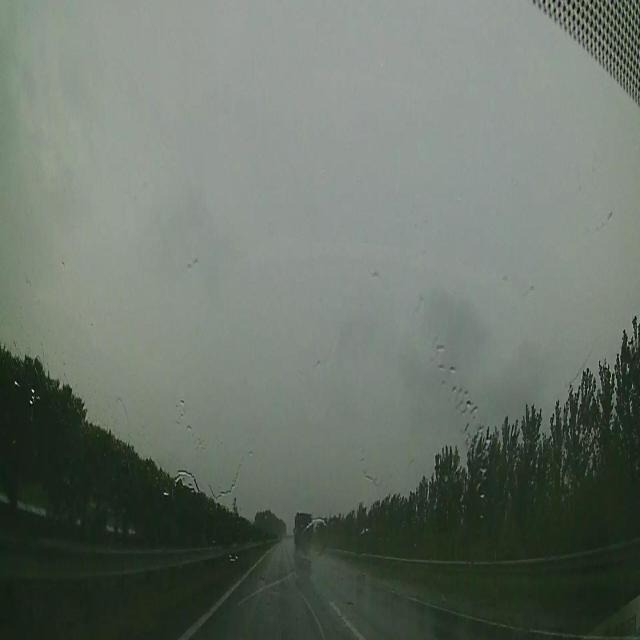car: (292, 508, 316, 553)
